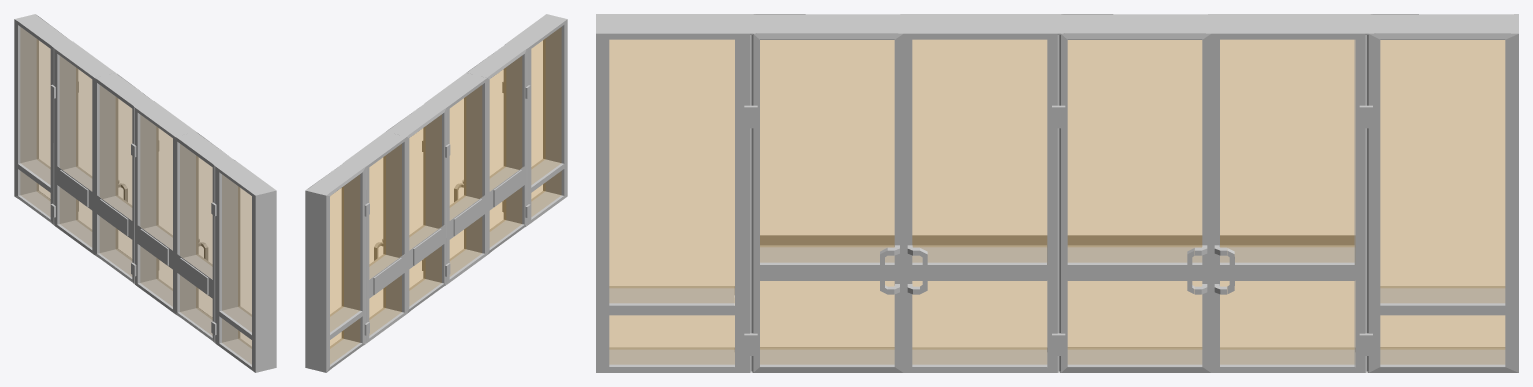
The model's file is mall_door.fbx.
The picture shows the model from 3 angles, left to right: view 1: azimuth 30°, elevation 25°; view 2: azimuth 150°, elevation 25°; view 3: azimuth 270°, elevation 25°; orthographic projection. The views are drawn at different scales.
Parts seen in each view (by area): view 1: Glass, WindowConnectors, Cube, PushButton, Hinges; view 2: Glass, WindowConnectors, Cube, PushButton, Hinges; view 3: Glass, Cube, WindowConnectors, PushButton, Handles, Hinges.
Boxes of the visible parts, box(x1,y1,x2,y2) form: Glass: box(21, 28, 251, 363); WindowConnectors: box(17, 25, 251, 366); Cube: box(14, 14, 276, 372); PushButton: box(60, 170, 208, 294); Hinges: box(50, 81, 216, 335); Glass: box(330, 28, 560, 363); WindowConnectors: box(330, 25, 564, 366); Cube: box(305, 14, 567, 372); PushButton: box(373, 170, 521, 294); Hinges: box(364, 81, 530, 335); Glass: box(609, 40, 1504, 363); Cube: box(596, 14, 1518, 372); WindowConnectors: box(609, 40, 1505, 367); PushButton: box(775, 237, 1339, 245); Handles: box(880, 245, 1234, 294); Hinges: box(744, 105, 1372, 355).
Size of the model in its own units: 136 by 800 by 1973.
